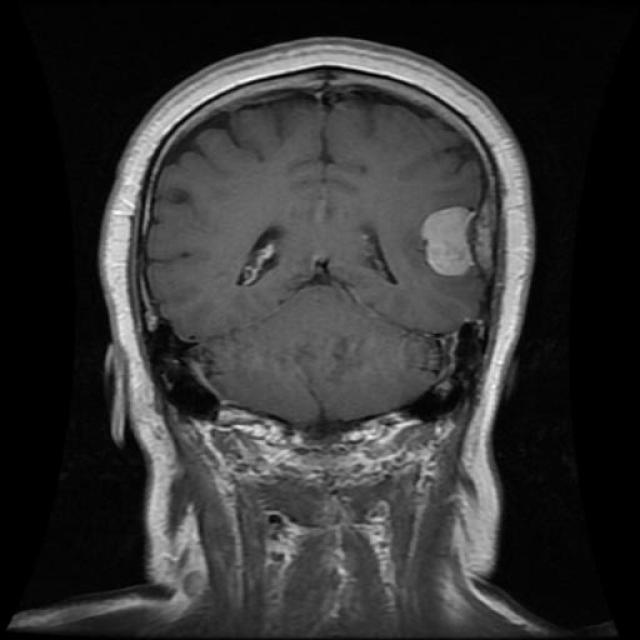Brain-Tumor: (413, 194, 491, 281)
